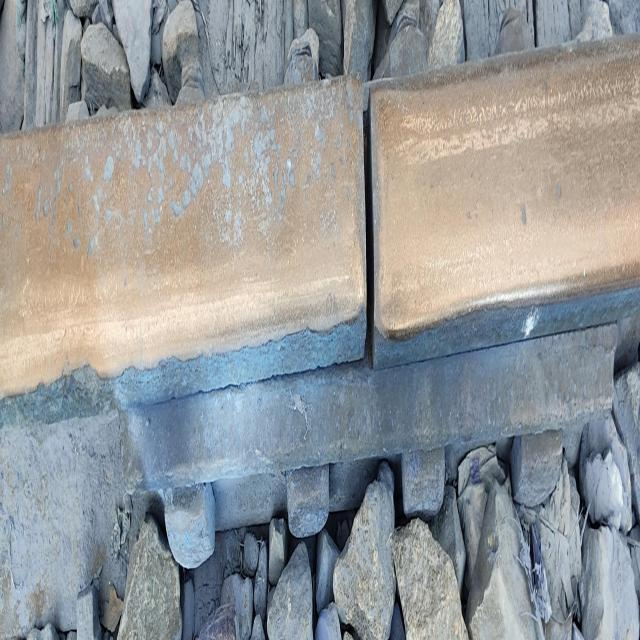Good Joint: (121, 317, 618, 571)
